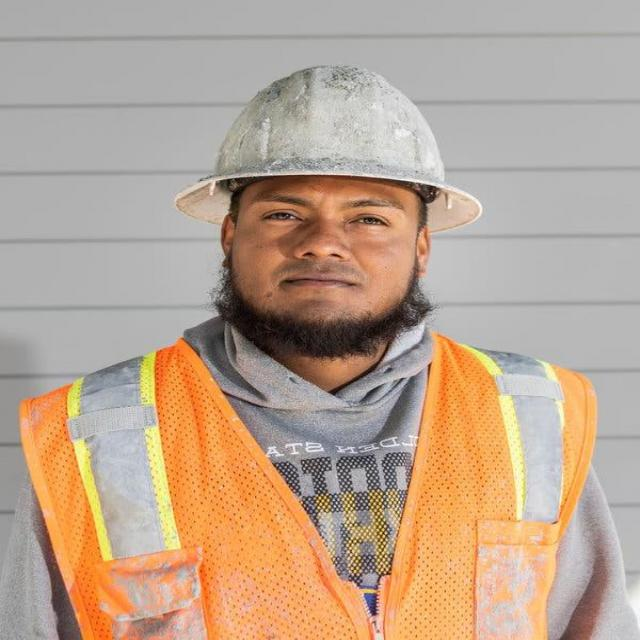Reflective-Jacket: (7, 333, 616, 640)
Safety-Helmet: (172, 64, 482, 234)
